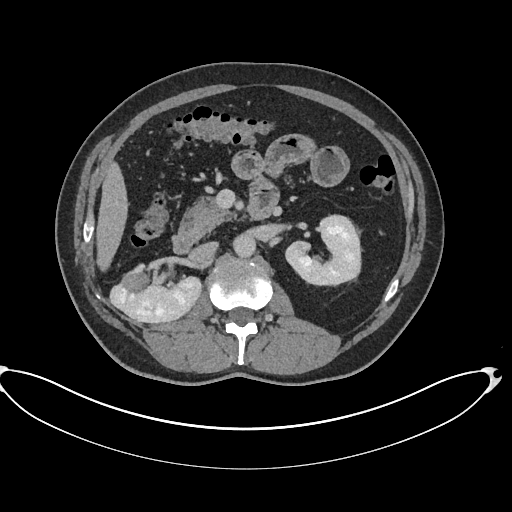Lesion: (122, 275, 151, 292)
